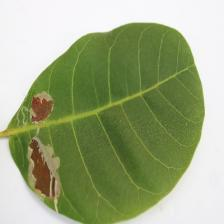leaf miner: (0, 22, 206, 224)
